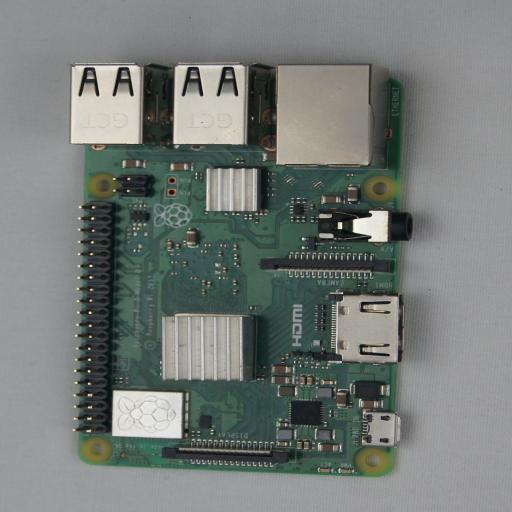Raspberry Pi 3 B-: (69, 56, 426, 477)
